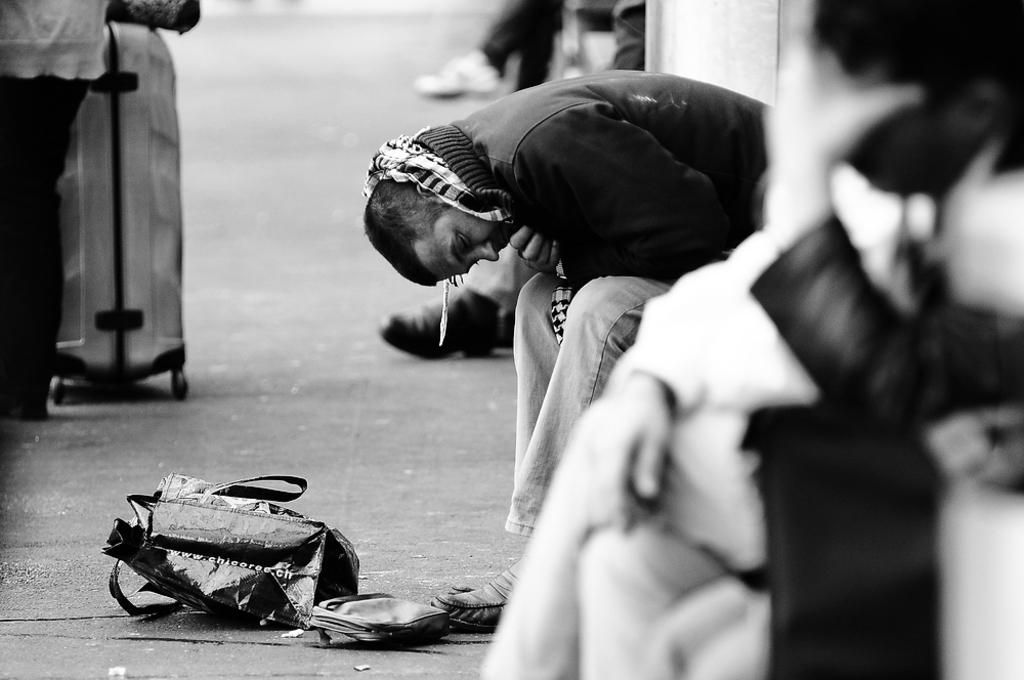Luggage-and-bags: (46, 24, 188, 396), (103, 465, 360, 628), (308, 585, 451, 651)
